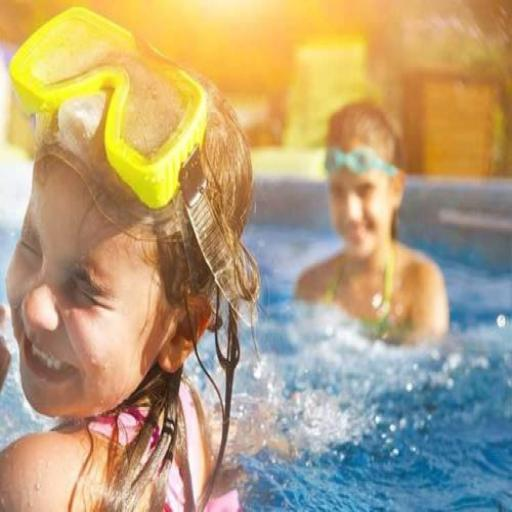swimming: (0, 4, 267, 510), (290, 98, 452, 350)
